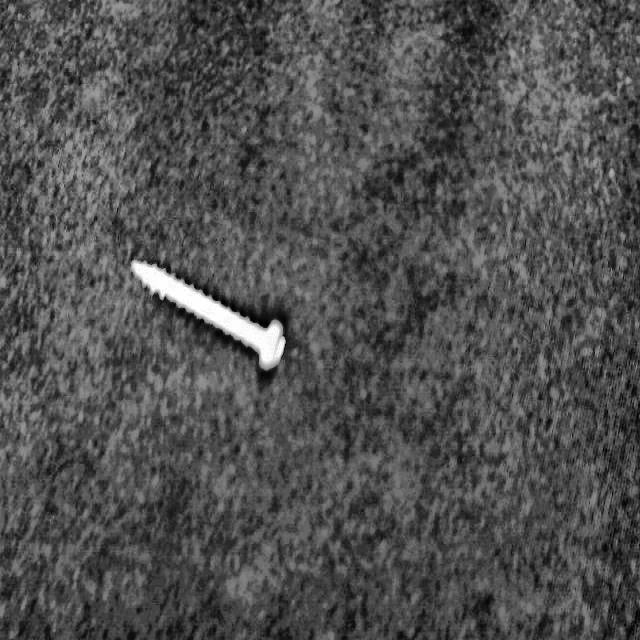Sheet metal screw: (129, 257, 286, 371)
